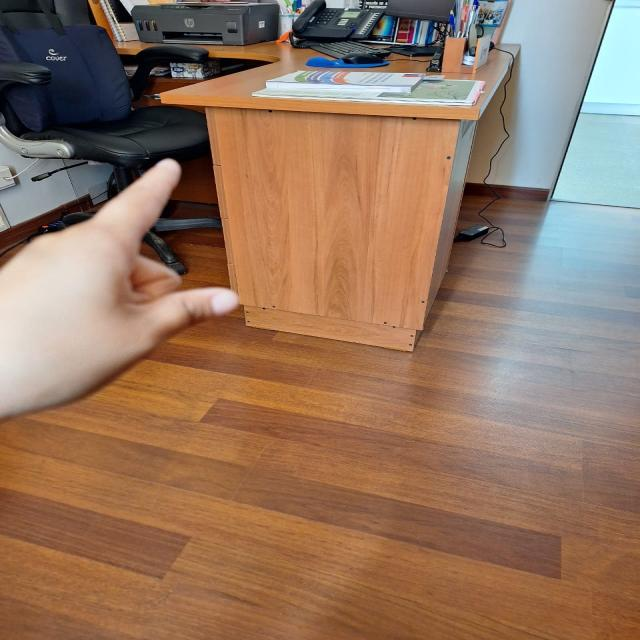X: (0, 148, 252, 428)
